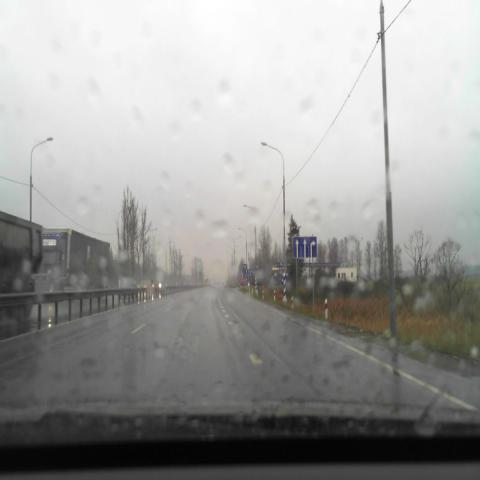5_15_1: (292, 237, 316, 257)
